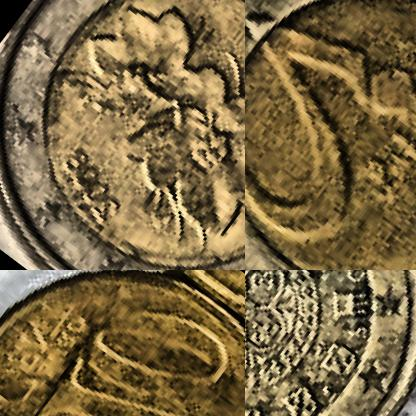coin: (0, 0, 244, 269), (245, 0, 415, 269), (0, 270, 244, 415), (245, 270, 415, 415)
